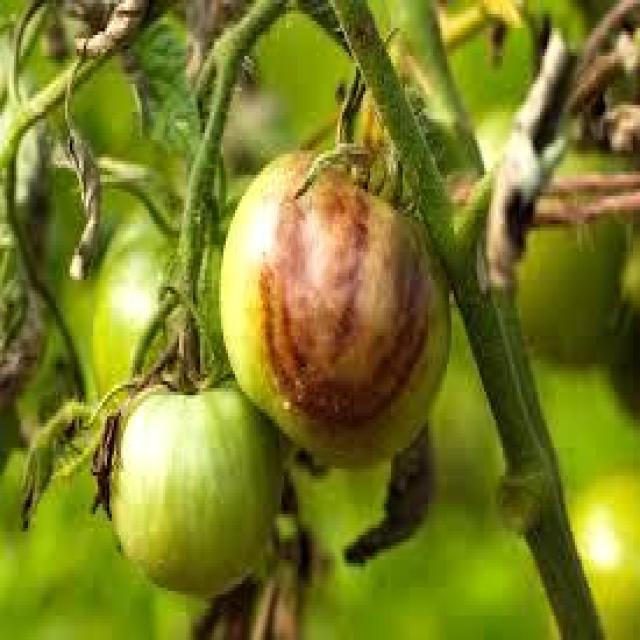Rotten_Tomato: (217, 130, 456, 468)
